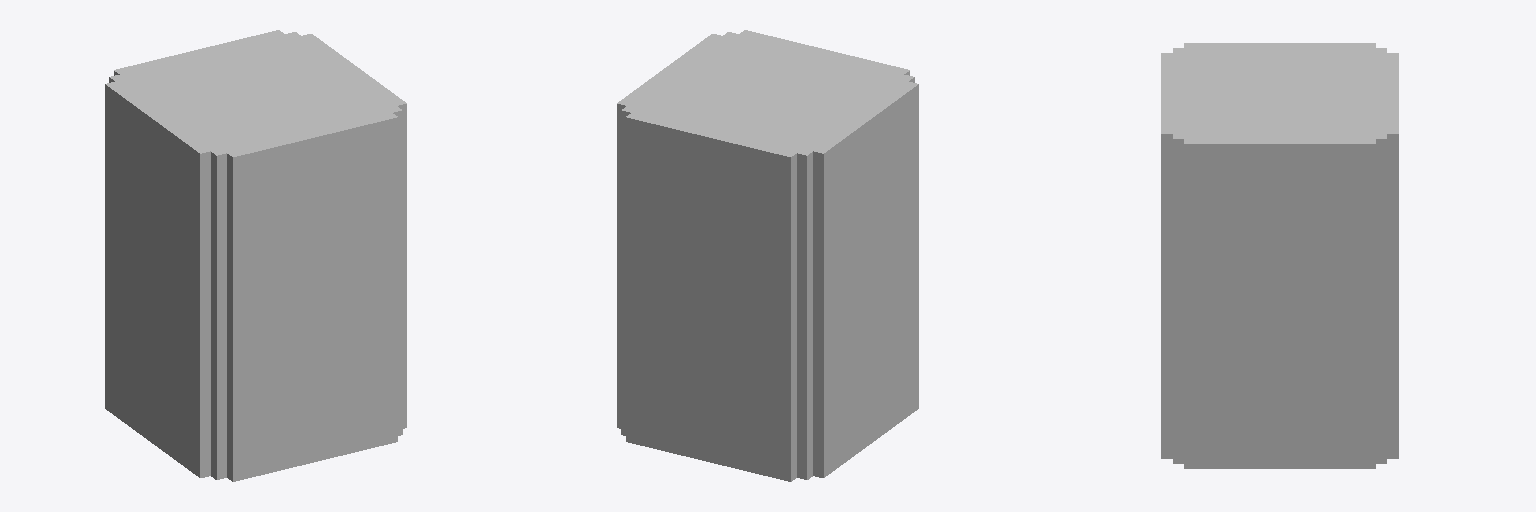
The model's file is Thigh.obj.
The picture shows the model from 3 angles: view 1: azimuth 30°, elevation 25°; view 2: azimuth 150°, elevation 25°; view 3: azimuth 270°, elevation 25°; orthographic projection.
Parts seen in each view (by area): view 1: Untitled; view 2: Untitled; view 3: Untitled.
Part boxes in pixels (bbox=[...]): Untitled: bbox=[105, 30, 406, 481]; Untitled: bbox=[617, 30, 918, 481]; Untitled: bbox=[1161, 43, 1398, 468].
Bounding box in the file's own units: 2 × 3 × 2.